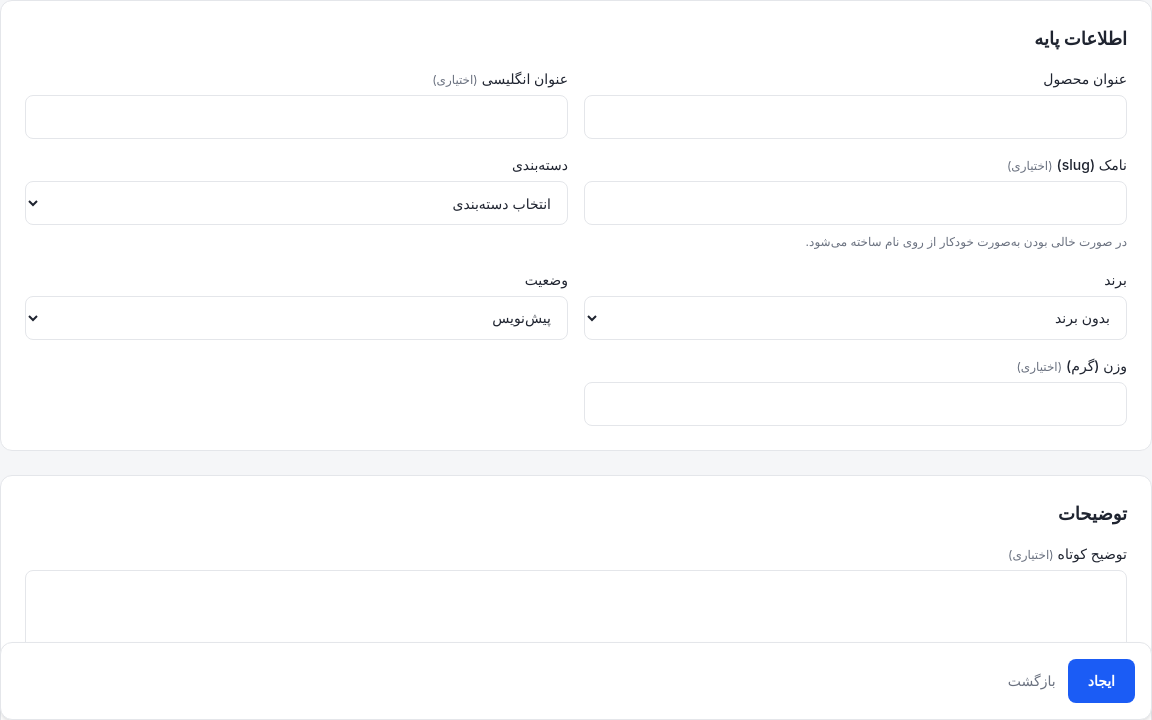
Test case: ProductForm (create) › requires at least one variant
Type "گوشی تستی" into the field labelled "عنوان محصول" at (856, 117), box [584, 95, 1127, 139]
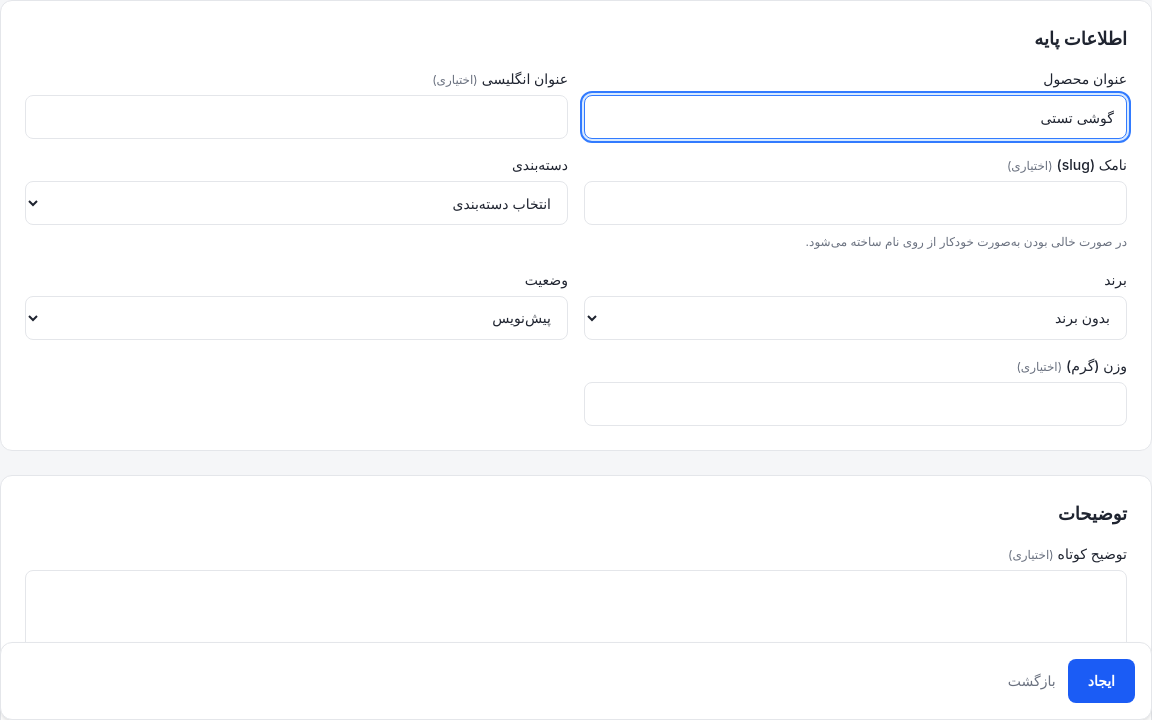
Select "└ موبایل" in the dropdown labelled "دسته‌بندی" at (296, 203), box [25, 181, 568, 225]
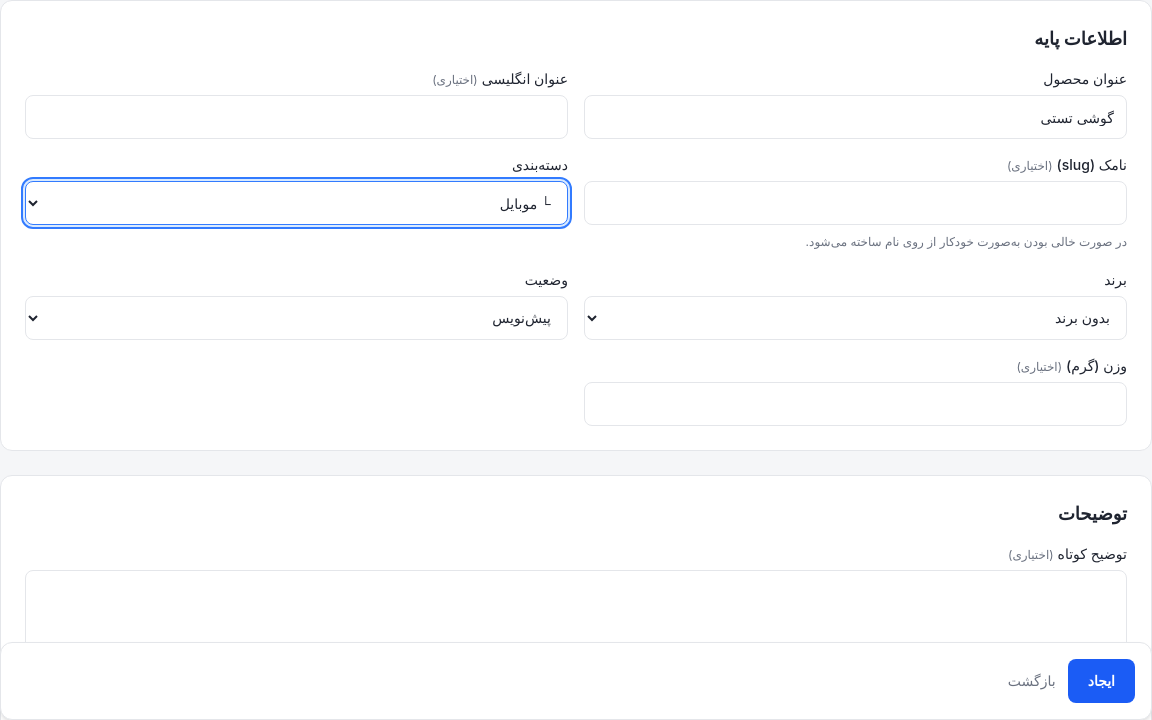
Click the button "ایجاد" at (1101, 681), box [1068, 659, 1135, 703]
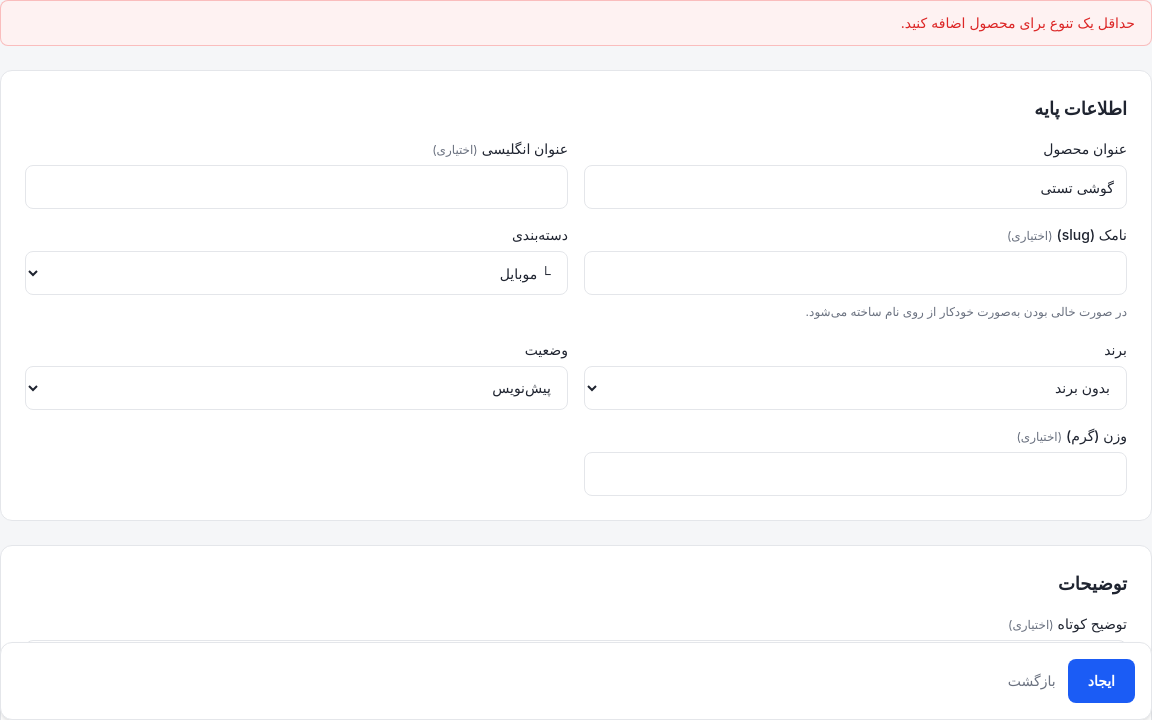
expect the text "حداقل یک تنوع برای محصول اضافه کنید." is shown: met, box [0, 0, 1151, 46]
